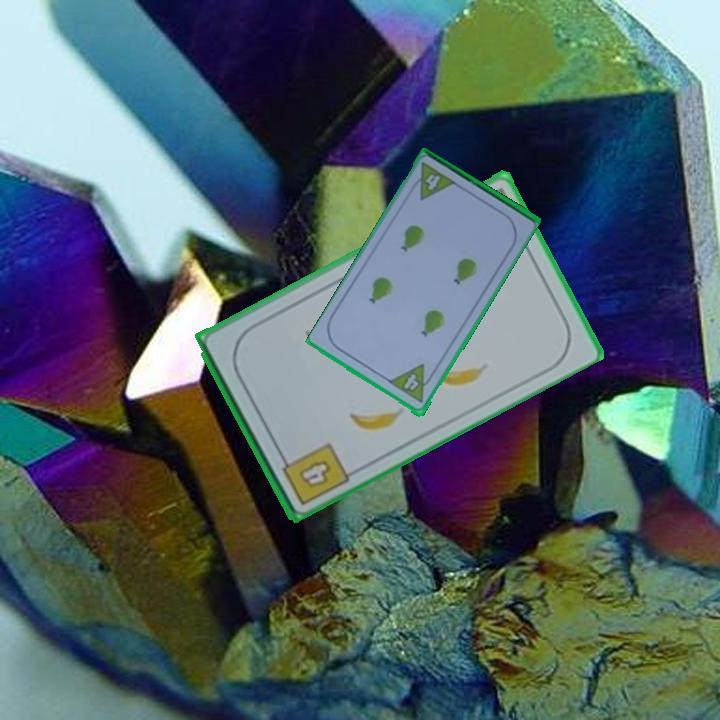4b: (275, 438, 352, 508)
4p: (386, 361, 438, 407), (405, 159, 458, 204)
